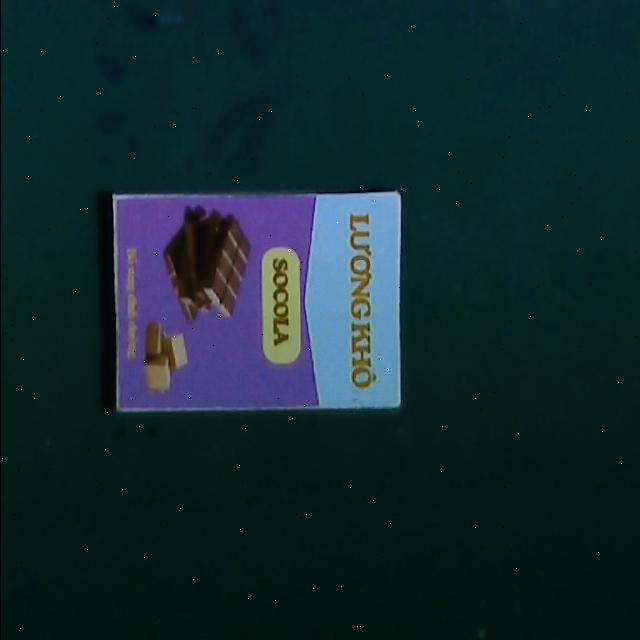socola: (113, 191, 402, 413)
